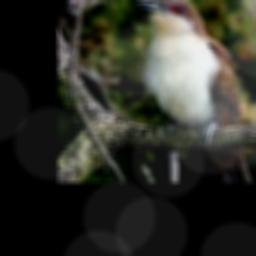Cuckoo: (136, 0, 252, 182)
